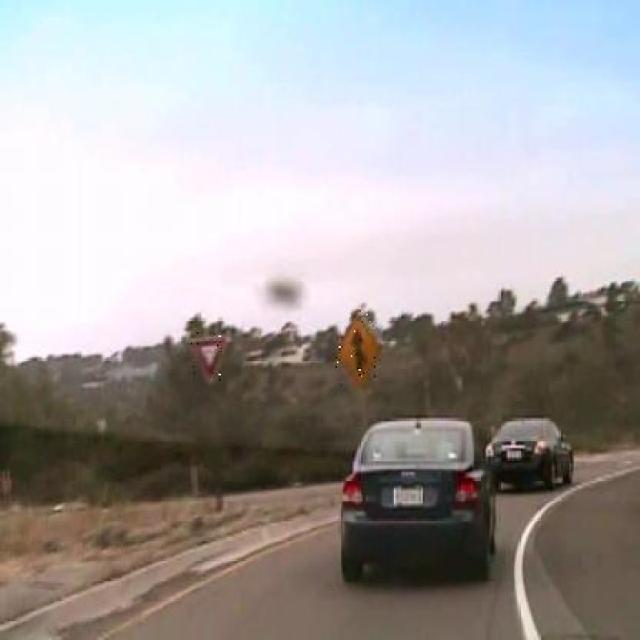merge: (335, 312, 381, 388)
yield: (189, 334, 226, 383)
